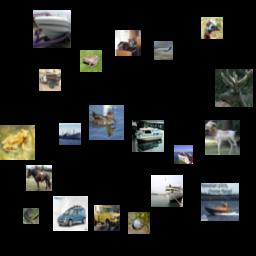airplane: (154, 41, 173, 60)
automobile: (53, 196, 88, 231)
bird: (89, 105, 124, 140), (201, 17, 223, 39)
cat: (115, 30, 141, 56)
deer: (215, 69, 253, 107), (205, 120, 240, 155)
frog: (0, 125, 35, 160), (80, 50, 102, 72), (128, 212, 150, 234), (23, 208, 39, 224)
ship: (201, 183, 239, 221), (33, 10, 71, 48), (151, 175, 183, 207), (132, 120, 164, 152), (59, 123, 81, 145), (174, 145, 193, 164)
truck: (94, 205, 120, 231), (39, 69, 61, 91)
